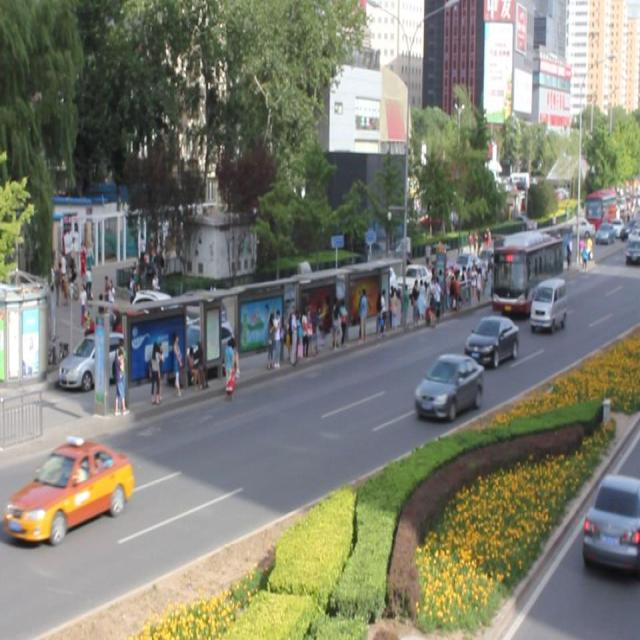car: (0, 437, 134, 544), (415, 350, 482, 417), (463, 314, 518, 366)
truck: (528, 278, 564, 330)
van: (489, 229, 561, 315)
